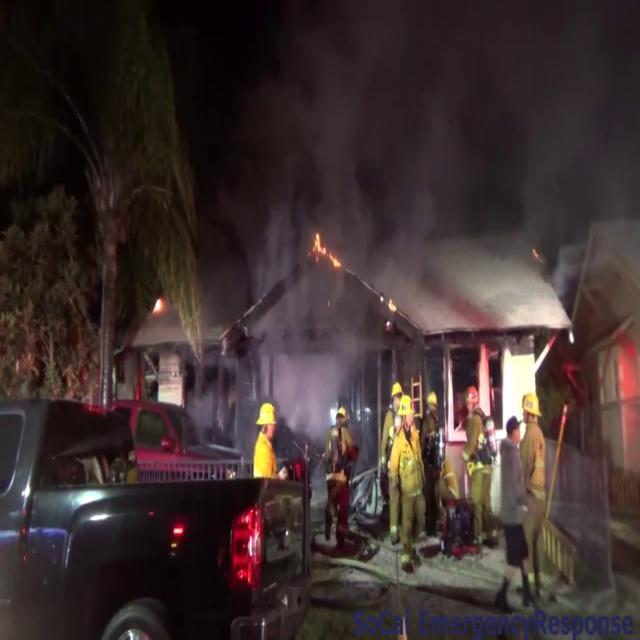Smoke: (186, 0, 640, 394)
